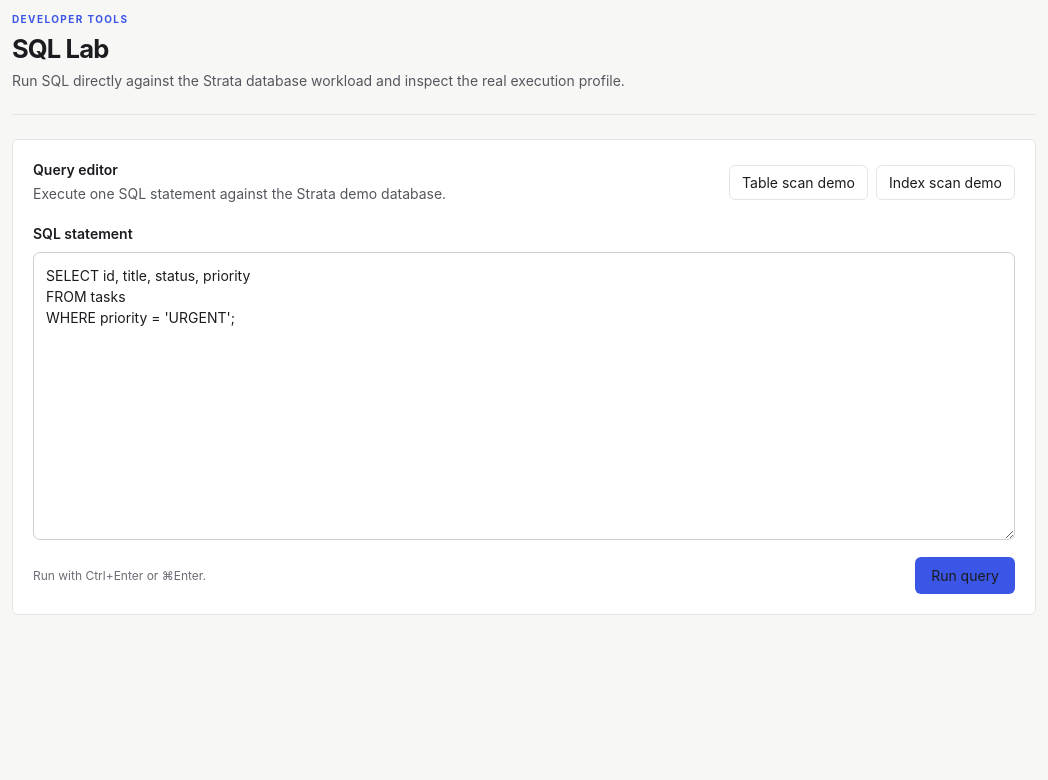
Test: SqlConsolePage › treats zero rows as a successful result
Click the button "Run query" at (965, 576), box [915,557,1015,594]
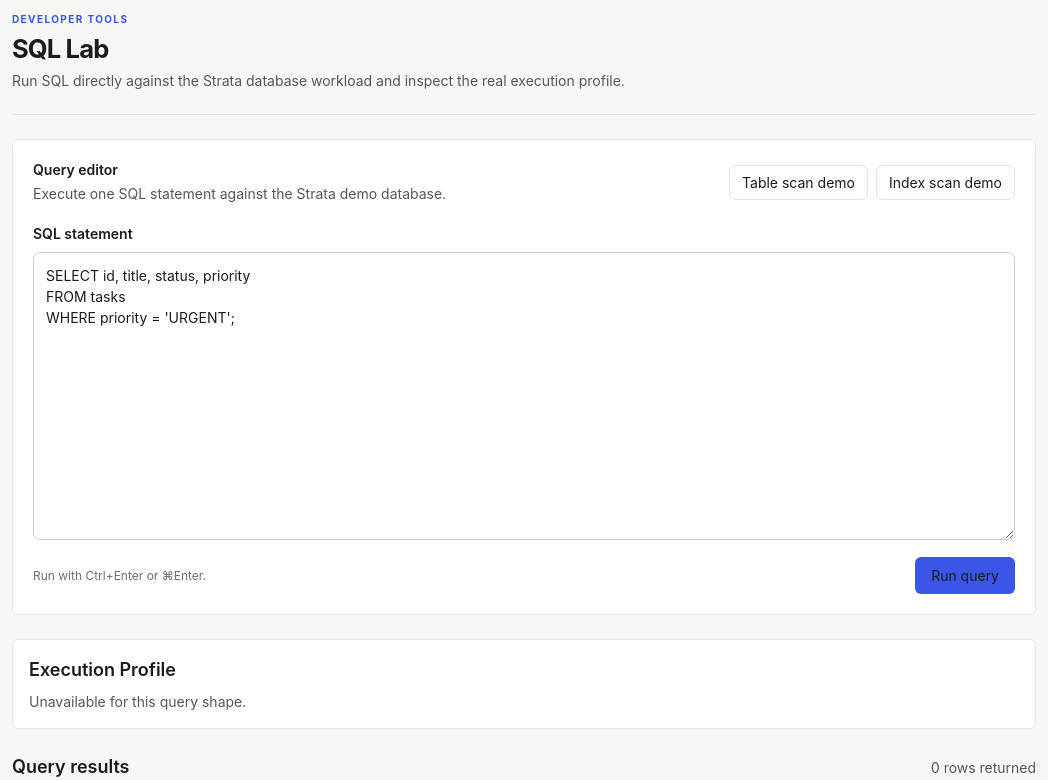
Now the text "0 rows returned" is shown, box [931,758,1036,778]
Now the text "Unavailable for this query shape." is shown, box [29,693,246,710]
